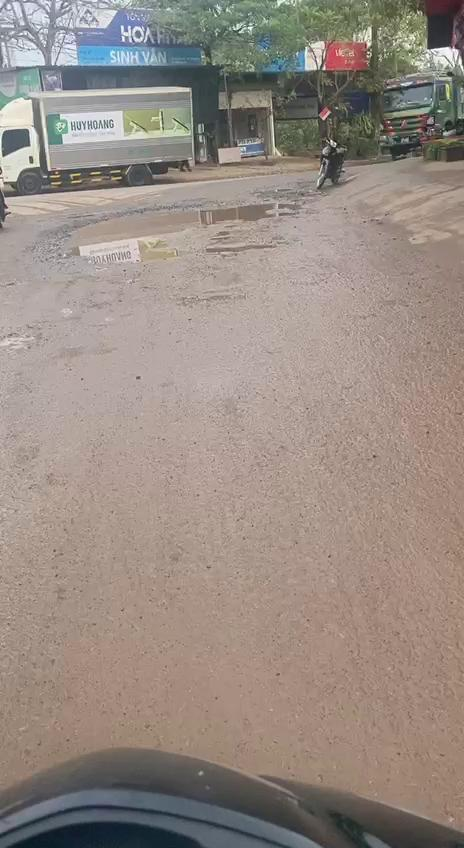pothole: (41, 191, 307, 274)
